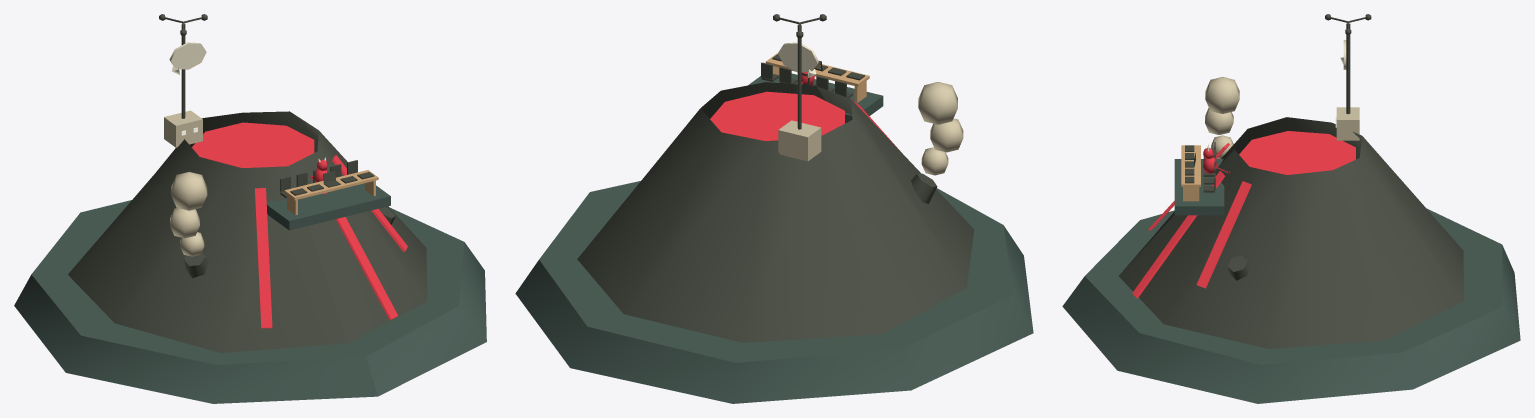
Rendered from hell-freezes-over.glb.
3 renders of one model, left to right at view 1: azimuth 30°, elevation 25°; view 2: azimuth 150°, elevation 25°; view 3: azimuth 270°, elevation 25°, orthographic. The views are drawn at different scales.
Visible parts, largest first — view 1: HellFreezesOver, Flow (×3), Smoke_ws, Station, Bubble; view 2: HellFreezesOver, Smoke_ws, Station, Bubble; view 3: HellFreezesOver, Flow (×2), Smoke_ws, Station.
Boxes of the visible parts, <box> form: HellFreezesOver: <box>14,111,486,403</box>; Flow (×3): <box>255,155,407,328</box>; Smoke_ws: <box>170,171,207,256</box>; Station: <box>164,23,202,147</box>; Bubble: <box>169,42,206,74</box>; HellFreezesOver: <box>515,53,1033,403</box>; Smoke_ws: <box>918,82,963,175</box>; Station: <box>778,24,821,161</box>; Bubble: <box>778,42,818,78</box>; HellFreezesOver: <box>1062,117,1520,403</box>; Flow (×2): <box>1132,171,1251,298</box>; Smoke_ws: <box>1205,77,1239,158</box>; Station: <box>1335,23,1359,140</box>.
Size of the model in its own units: 13.99 by 8.9 by 13.86.
